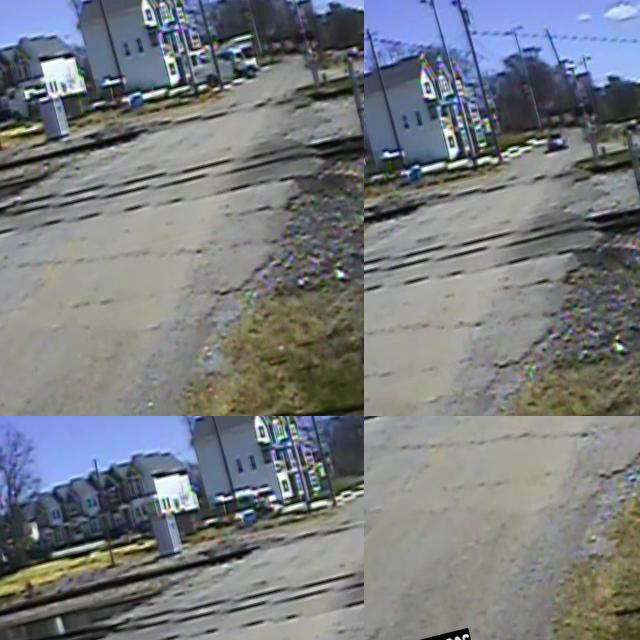barrier: (364, 0, 387, 190), (539, 24, 581, 94), (0, 0, 24, 122), (364, 416, 389, 524), (0, 416, 23, 530), (262, 0, 301, 42)
car: (540, 124, 570, 160), (603, 416, 640, 438)
rails: (0, 20, 364, 231), (0, 72, 364, 279), (0, 447, 364, 633), (364, 139, 640, 363), (364, 101, 640, 315), (0, 486, 364, 640), (364, 416, 640, 523), (364, 416, 640, 521)
traffic-signal: (364, 175, 398, 360), (564, 92, 616, 172), (0, 121, 26, 279), (284, 22, 332, 102), (0, 524, 27, 640), (364, 416, 386, 496)
truck: (182, 26, 260, 94)
